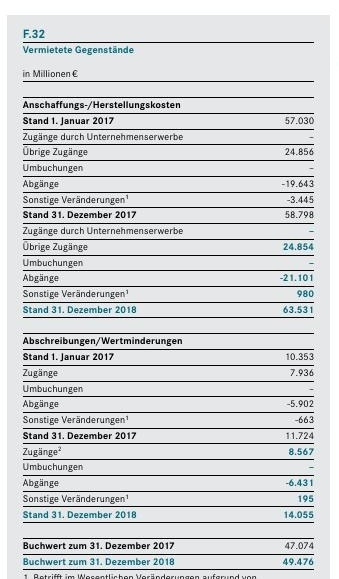table: (0, 0, 339, 579)
